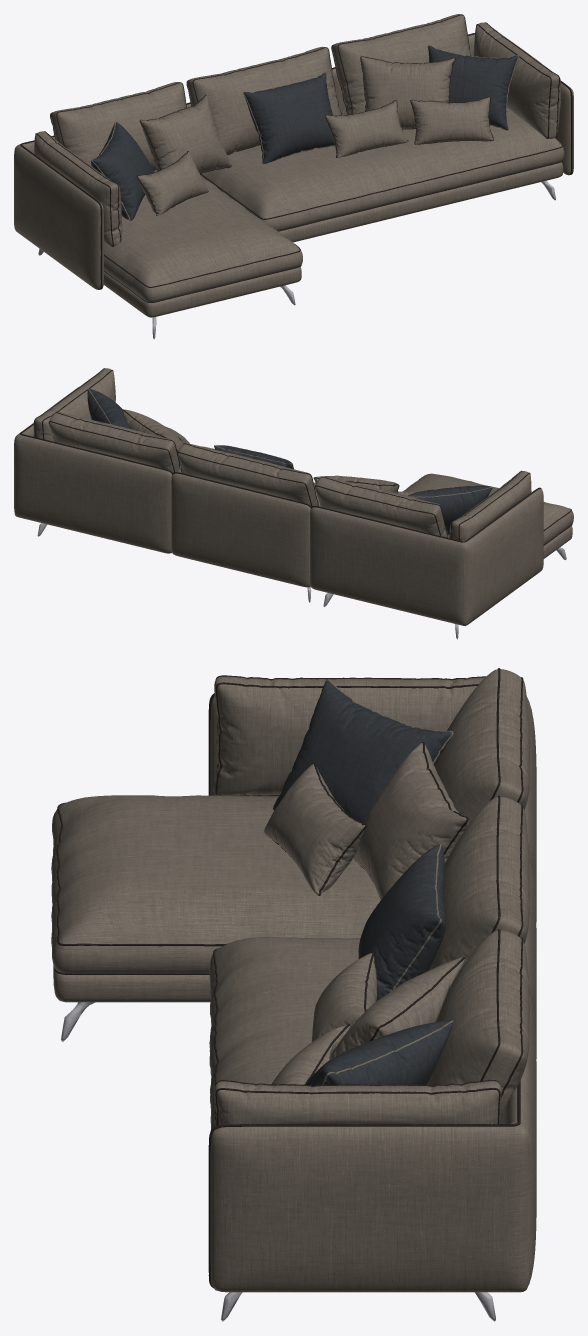
File: Sofa_Corner_4.glb
3 views of the same model, one above another, from view 1: azimuth 30°, elevation 25°; view 2: azimuth 150°, elevation 25°; view 3: azimuth 270°, elevation 25° (orthographic). The views are drawn at different scales.
Visible parts, largest first — view 1: Seating cushion 2; view 2: Seating cushion 2; view 3: Seating cushion 2.
Part boxes in pixels (x1,y1,x2,y2): Seating cushion 2: [14, 14, 573, 339]; Seating cushion 2: [14, 368, 573, 639]; Seating cushion 2: [51, 668, 536, 1321].
Bounding box in the file's own units: 3.15 × 0.8582 × 1.44.
4 materials, 4 textured.
